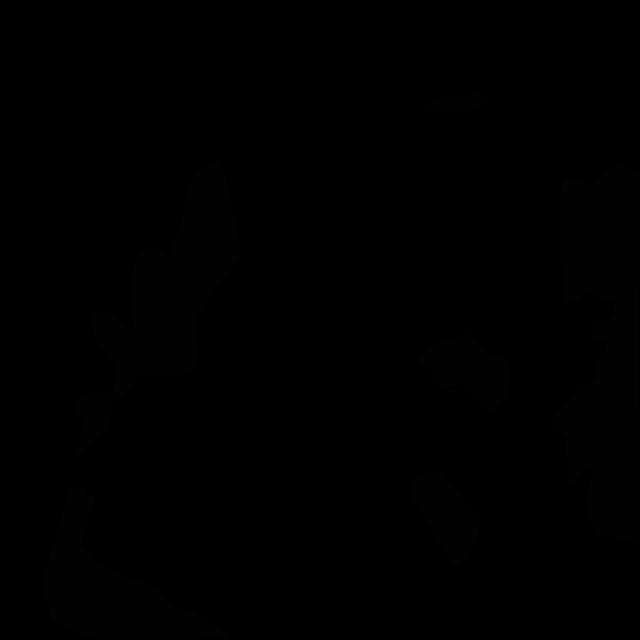cardboard: (43, 487, 233, 640), (546, 283, 640, 545), (169, 160, 243, 323), (559, 163, 640, 304), (132, 246, 198, 379), (414, 327, 510, 412), (76, 309, 142, 419), (410, 471, 482, 568), (74, 405, 113, 460)
rigid_plastic: (420, 90, 494, 115)
